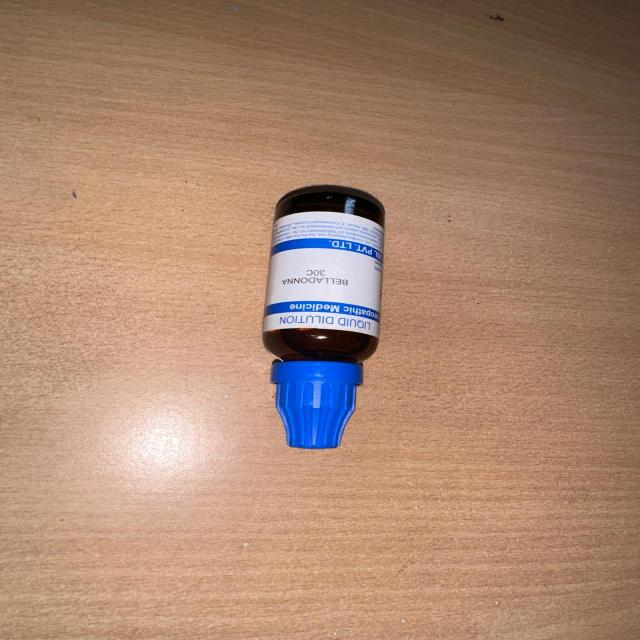medicine: (240, 185, 398, 462)
